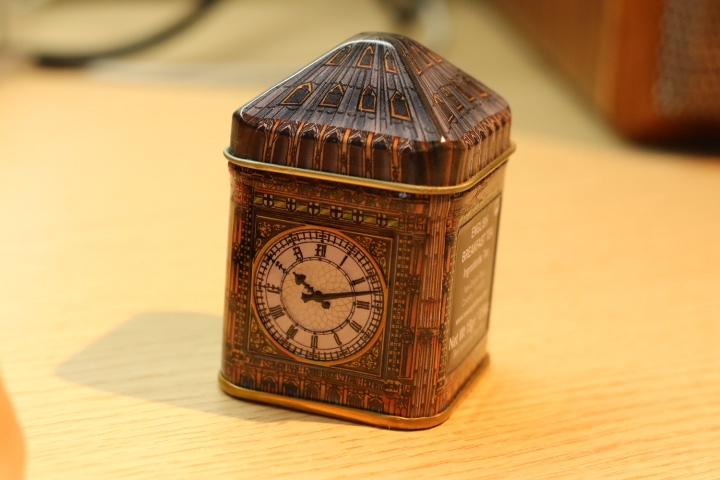Big Ben: (212, 26, 542, 439)
